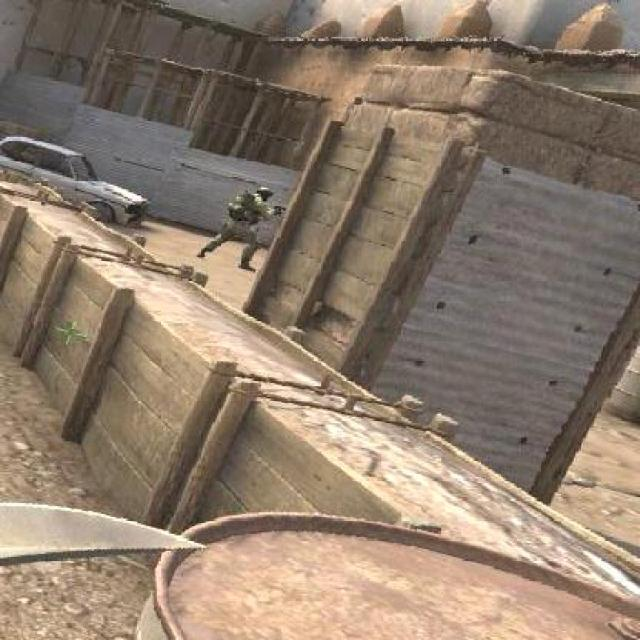CT-Body: (250, 183, 272, 200)
CT-Head: (189, 178, 282, 258)
